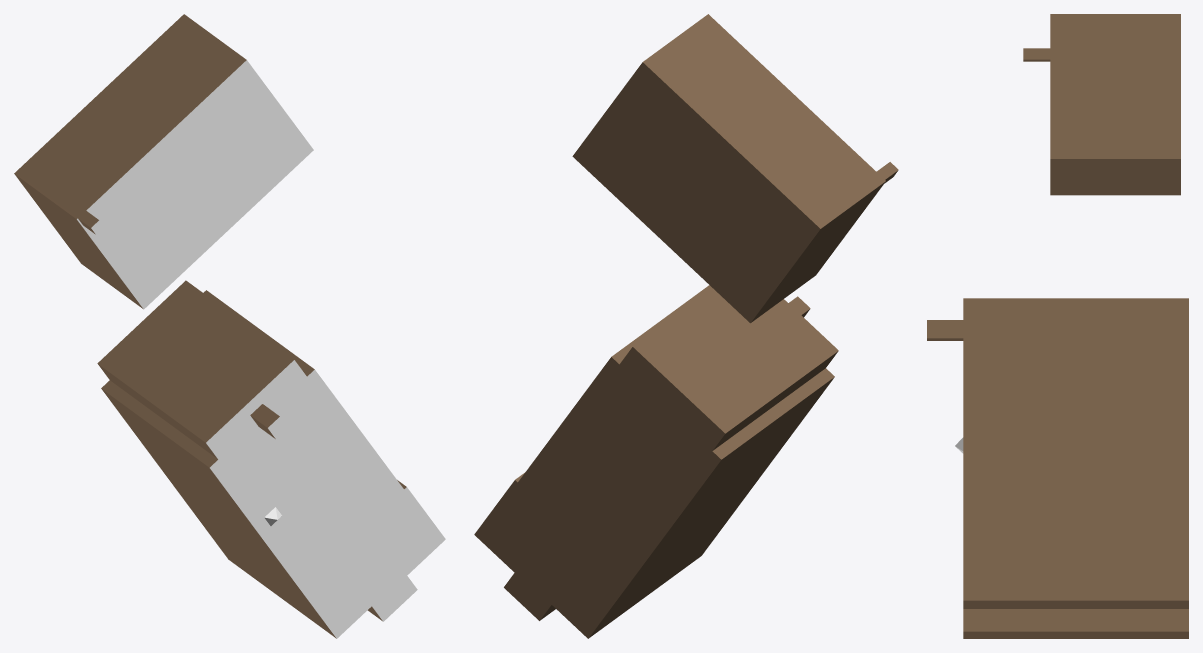
3 views of the same model, side by side, from view 1: azimuth 30°, elevation 25°; view 2: azimuth 150°, elevation 25°; view 3: azimuth 270°, elevation 25° (orthographic). The views are drawn at different scales.
Parts seen in each view (by area): view 1: City_2316481; view 2: City_2316481; view 3: City_2316481.
Part boxes in pixels (left/top/right/bottom): City_2316481: left=14, top=14, right=445, bottom=638; City_2316481: left=474, top=14, right=898, bottom=638; City_2316481: left=927, top=14, right=1188, bottom=638.
Size of the model in its own units: 1941 by 3176 by 1294.
